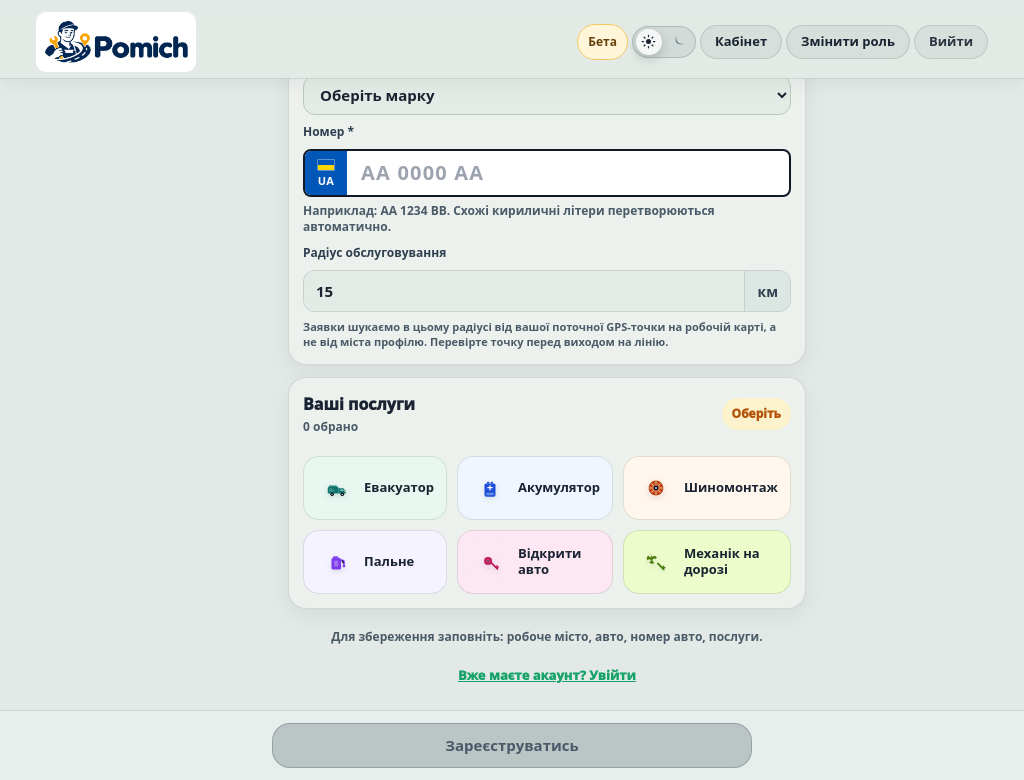
Test: POMICH role-based flows › partner registration exposes password login and remember option
This screenshot has width=1024, height=780.
(page scrolled)
Click the button "Вже маєте акаунт? Увійти" at point(547, 676), box [288, 658, 806, 694]
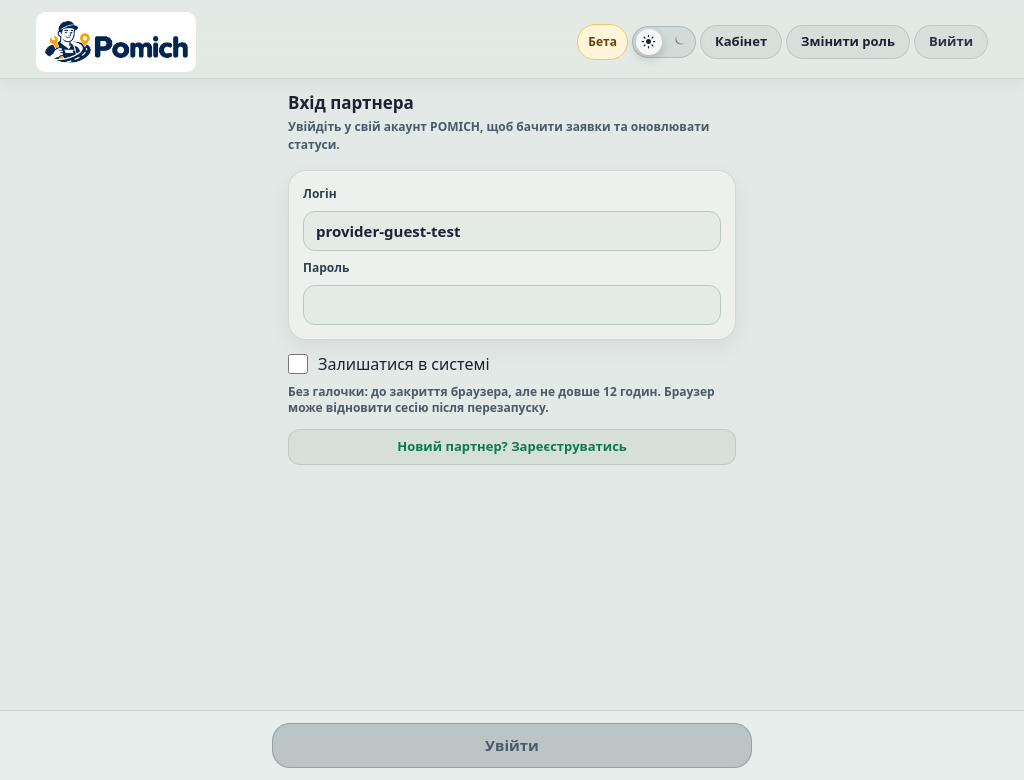
Now the text "Вхід партнера" is shown, box [288, 91, 414, 114]
Now the checkbox labelled "Залишатися в системі" is not checked, box [288, 354, 308, 374]
